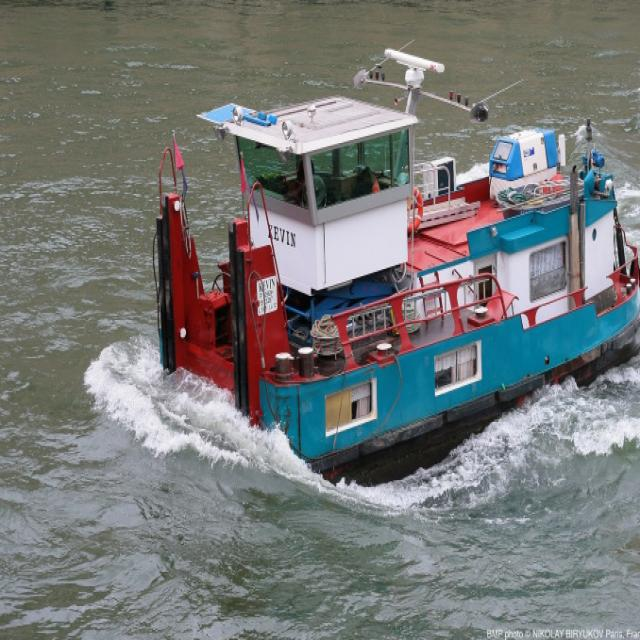tugboat: (157, 41, 640, 511)
